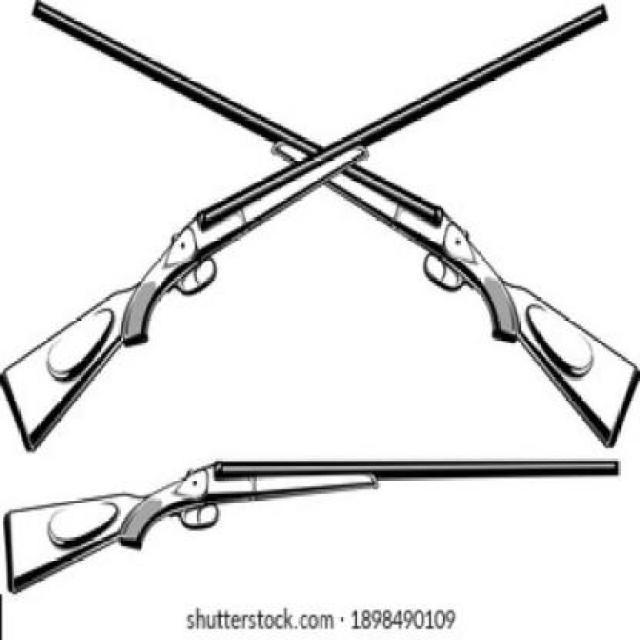weapon: (0, 0, 638, 451), (0, 457, 620, 594)
